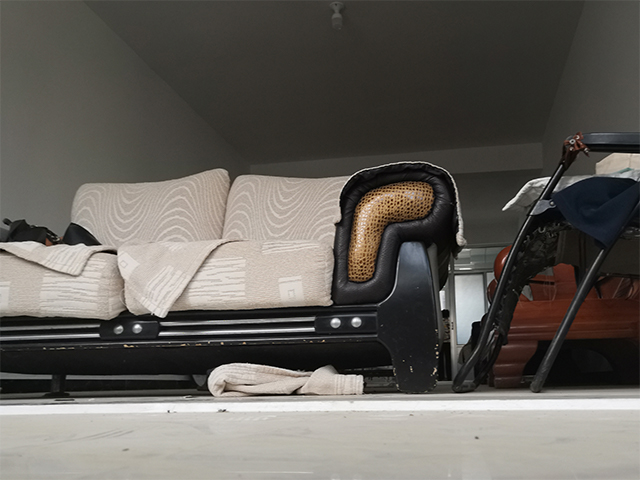sofa: (1, 158, 469, 395)
